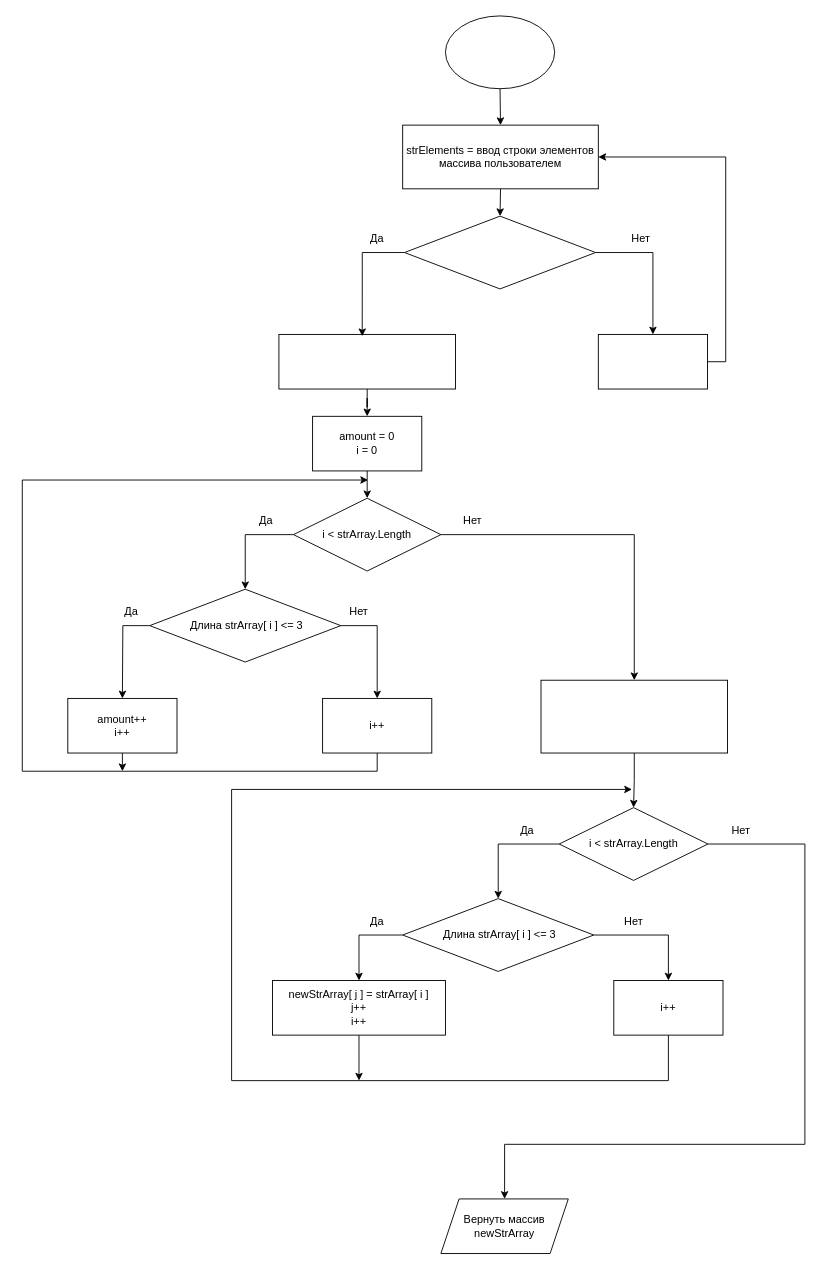
This 828x1269 diagram has some shape labels left out. Each missing label, with the box of its shape:
strArray[ ] = разбить строку на массив строк, разделители: " ", ",": (278, 334, 455, 389)
strElements != пустая строка: (404, 215, 596, 289)
Начало: (445, 15, 555, 89)
создать новый строковый массив newStrArray с кол-вом элементов amount j = 0: (540, 679, 728, 753)
сообщение об ошибке: (597, 334, 708, 389)
